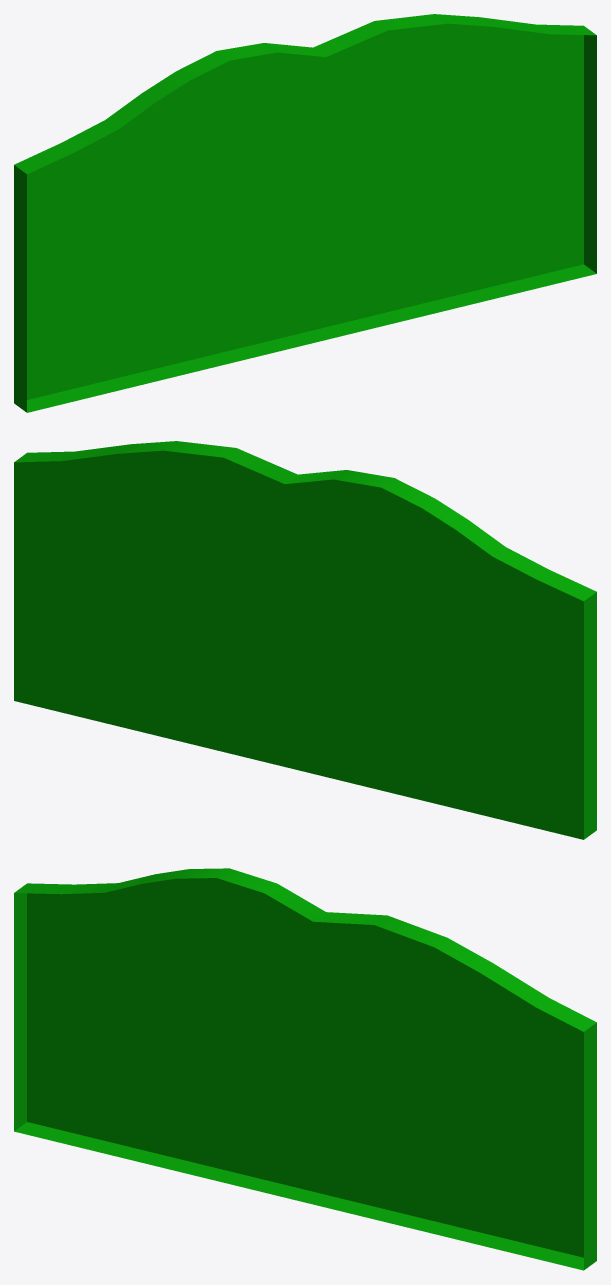
The model's file is 3 low res ice cream.fbx.
The picture shows the model from 3 angles, top to bottom: view 1: azimuth 30°, elevation 25°; view 2: azimuth 150°, elevation 25°; view 3: azimuth 330°, elevation 25°; orthographic projection.
Parts seen in each view (by area): view 1: ice_Cream_Ridge_terrain; view 2: ice_Cream_Ridge_terrain; view 3: ice_Cream_Ridge_terrain.
Part boxes in pixels (x1,y1,x2,y2): ice_Cream_Ridge_terrain: (14, 14, 596, 412); ice_Cream_Ridge_terrain: (14, 441, 596, 839); ice_Cream_Ridge_terrain: (14, 868, 596, 1270).
Size of the model in its own units: 25 by 12.7 by 1.
